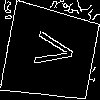V: (26, 29, 76, 71)
